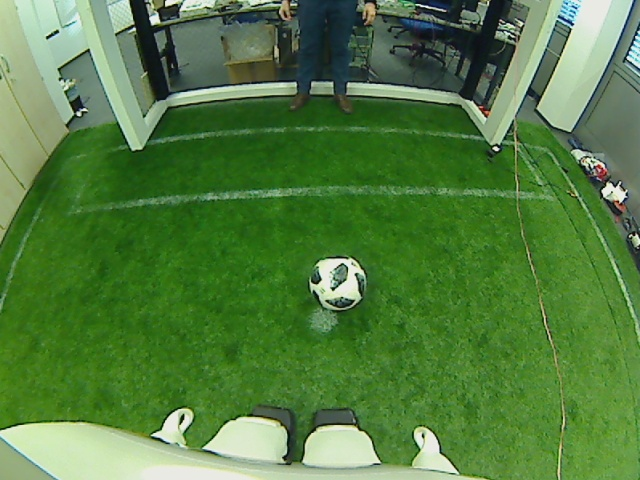ball: (307, 253, 369, 313)
